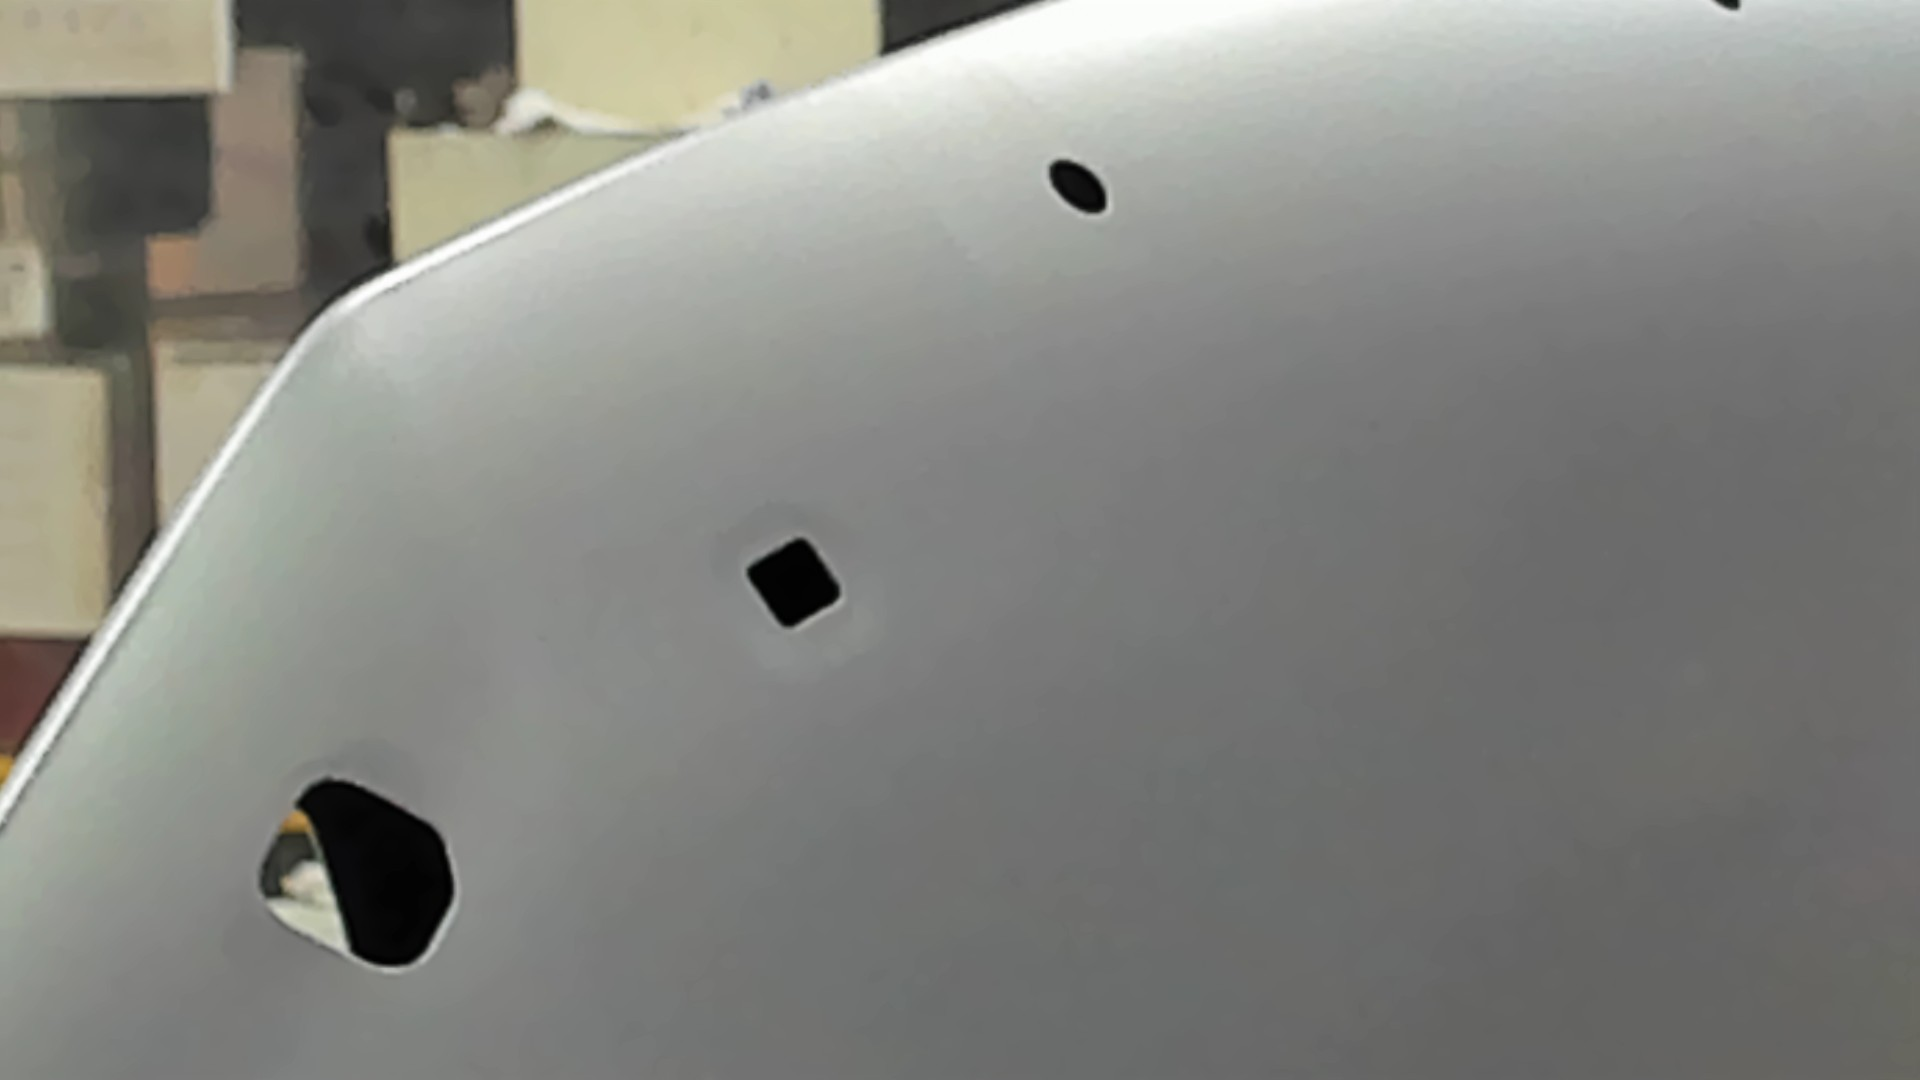chico: (1040, 152, 1113, 222), (1710, 1, 1753, 18)
grande: (251, 769, 469, 981)
mediano: (738, 531, 852, 637)
